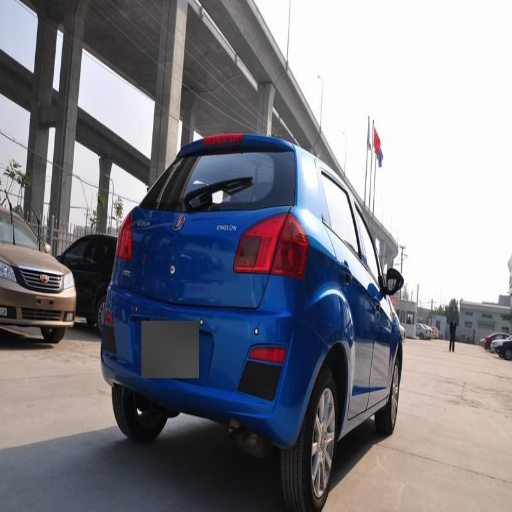back_bumper: (106, 274, 320, 446)
back_right_door: (320, 170, 368, 414)
back_right_light: (272, 229, 306, 274)
trunk: (122, 209, 284, 345)
